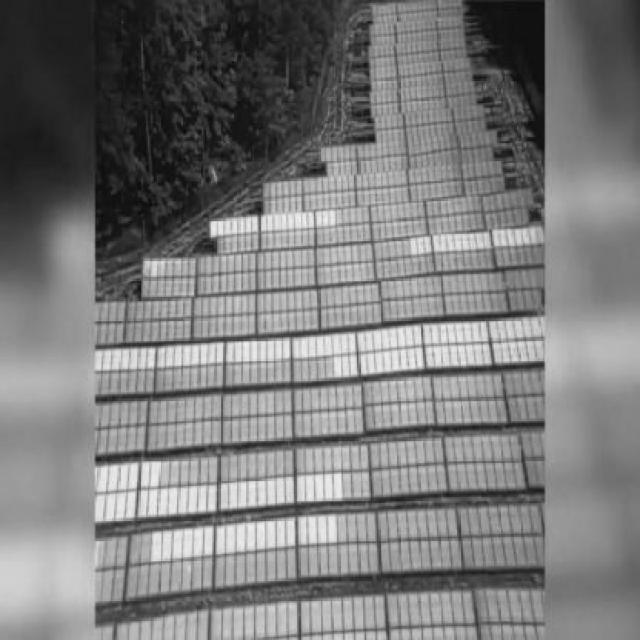diode: (150, 530, 162, 564), (162, 528, 172, 562), (107, 466, 118, 492), (138, 490, 148, 518), (178, 487, 188, 515), (284, 476, 294, 504), (308, 515, 318, 543), (257, 520, 266, 551), (256, 480, 267, 505), (217, 526, 226, 556), (298, 518, 308, 545), (128, 463, 138, 489), (158, 490, 168, 516), (98, 466, 107, 494), (150, 460, 159, 488), (489, 317, 498, 345), (140, 462, 149, 489), (148, 489, 157, 516), (276, 478, 286, 502), (106, 492, 115, 518), (168, 489, 177, 514), (220, 485, 229, 510), (248, 482, 257, 507), (258, 340, 268, 362), (116, 494, 125, 518), (119, 464, 128, 488), (198, 485, 207, 509), (334, 475, 343, 499), (247, 524, 256, 548), (277, 522, 286, 546), (102, 347, 111, 371), (415, 347, 427, 365), (238, 484, 248, 505), (512, 342, 522, 363), (126, 492, 134, 518), (96, 497, 105, 520), (230, 483, 238, 508), (172, 532, 180, 557), (227, 525, 235, 550), (157, 345, 166, 367), (357, 332, 366, 354), (374, 330, 383, 352), (413, 325, 422, 347), (184, 530, 191, 558), (297, 477, 305, 501), (316, 475, 324, 499), (286, 521, 294, 545), (209, 484, 216, 511), (280, 338, 289, 359), (267, 480, 275, 503), (329, 516, 336, 542), (307, 476, 315, 498), (325, 475, 333, 497), (129, 346, 137, 368), (250, 340, 258, 362), (399, 346, 407, 368), (195, 530, 202, 555), (268, 523, 275, 548), (157, 258, 166, 277), (233, 343, 242, 362), (407, 348, 416, 367), (523, 319, 532, 338), (502, 343, 511, 362), (396, 329, 406, 346), (342, 354, 350, 375), (405, 327, 413, 348), (471, 321, 480, 339), (467, 345, 476, 363), (484, 347, 493, 365), (508, 320, 517, 338), (528, 341, 537, 359), (189, 487, 196, 510), (426, 348, 436, 364), (319, 518, 326, 540), (251, 215, 258, 237), (365, 329, 372, 351), (368, 356, 377, 373), (531, 319, 540, 336), (494, 347, 503, 364), (508, 229, 517, 246), (517, 229, 525, 248), (536, 226, 544, 245), (206, 530, 212, 555), (238, 525, 244, 550), (112, 348, 119, 369), (275, 341, 283, 359), (293, 337, 301, 355), (456, 325, 464, 343), (516, 320, 524, 338), (410, 238, 418, 256), (523, 228, 532, 244), (226, 344, 234, 361), (175, 345, 182, 364), (425, 236, 432, 255), (308, 336, 314, 358), (440, 322, 446, 344), (448, 323, 454, 345), (478, 345, 484, 367), (538, 340, 544, 362), (383, 351, 391, 367), (382, 332, 390, 348), (492, 231, 500, 247), (96, 351, 102, 372), (140, 348, 146, 369), (148, 348, 154, 369), (217, 342, 223, 363), (244, 341, 251, 359), (336, 354, 342, 375), (424, 325, 431, 343), (443, 345, 449, 366), (389, 330, 397, 345), (446, 235, 454, 250), (151, 259, 158, 276), (218, 218, 224, 237), (121, 349, 127, 368), (191, 345, 197, 364), (392, 349, 398, 368), (481, 323, 487, 342), (501, 322, 507, 341), (522, 343, 528, 362), (456, 232, 462, 251), (476, 232, 482, 251), (94, 540, 98, 568), (211, 222, 218, 238), (315, 214, 323, 228), (485, 233, 492, 249), (166, 347, 172, 365), (200, 344, 206, 362), (268, 342, 274, 360), (301, 340, 307, 358), (333, 334, 339, 352), (341, 334, 347, 352), (360, 355, 366, 373), (433, 324, 439, 342), (460, 347, 466, 365), (418, 238, 424, 256), (470, 232, 476, 250), (463, 232, 468, 253), (502, 231, 509, 246), (238, 217, 244, 234), (244, 216, 250, 233), (281, 215, 287, 232), (210, 344, 216, 361), (348, 333, 354, 350), (434, 238, 440, 255), (326, 338, 332, 354), (351, 356, 357, 372), (376, 355, 382, 371), (441, 236, 447, 252), (96, 464, 99, 494), (436, 348, 442, 363), (451, 350, 457, 365), (464, 325, 470, 340), (542, 315, 546, 337), (288, 214, 294, 228), (302, 214, 308, 228), (533, 228, 539, 242), (185, 346, 189, 365), (267, 218, 273, 230), (294, 214, 300, 226), (323, 213, 329, 225), (275, 216, 280, 229), (319, 338, 323, 353), (261, 217, 265, 231), (225, 221, 229, 234), (331, 210, 334, 225), (232, 220, 235, 232), (310, 212, 312, 230)
hotspot: (146, 258, 149, 273)
